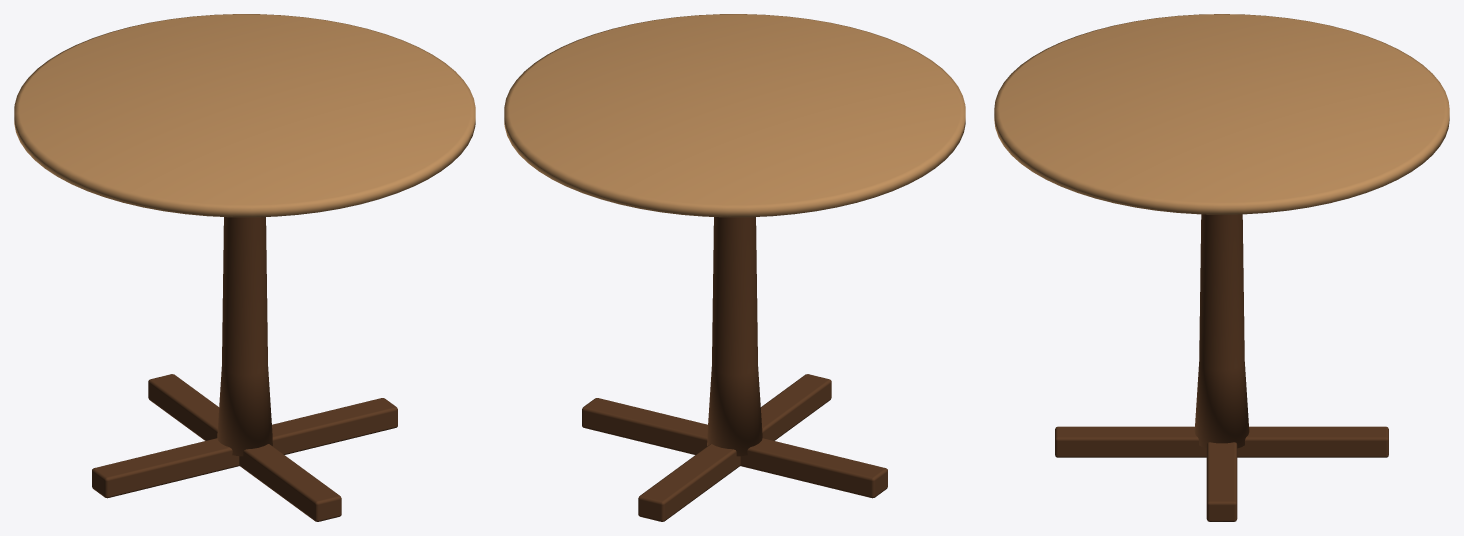
The model's file is mesa.glb.
3 views of the same model, side by side, from view 1: azimuth 30°, elevation 25°; view 2: azimuth 150°, elevation 25°; view 3: azimuth 270°, elevation 25° (orthographic).
Parts seen in each view (by area): view 1: mesa_tampo, mesa_coluna, mesa_pe, mesa_pe.001; view 2: mesa_tampo, mesa_coluna, mesa_pe, mesa_pe.001; view 3: mesa_tampo, mesa_coluna, mesa_pe.001, mesa_pe.
Boxes of the visible parts, left/top/right/bottom form: mesa_tampo: left=14, top=14, right=475, bottom=217; mesa_coluna: left=217, top=217, right=272, bottom=456; mesa_pe: left=92, top=398, right=397, bottom=498; mesa_pe.001: left=148, top=374, right=341, bottom=521; mesa_tampo: left=504, top=14, right=965, bottom=217; mesa_coluna: left=707, top=217, right=762, bottom=456; mesa_pe: left=582, top=398, right=887, bottom=498; mesa_pe.001: left=638, top=374, right=831, bottom=521; mesa_tampo: left=994, top=14, right=1449, bottom=214; mesa_coluna: left=1194, top=214, right=1249, bottom=448; mesa_pe.001: left=1055, top=426, right=1388, bottom=457; mesa_pe: left=1206, top=442, right=1237, bottom=521.
Bounding box in the file's own units: 0.9 × 0.75 × 0.9.
